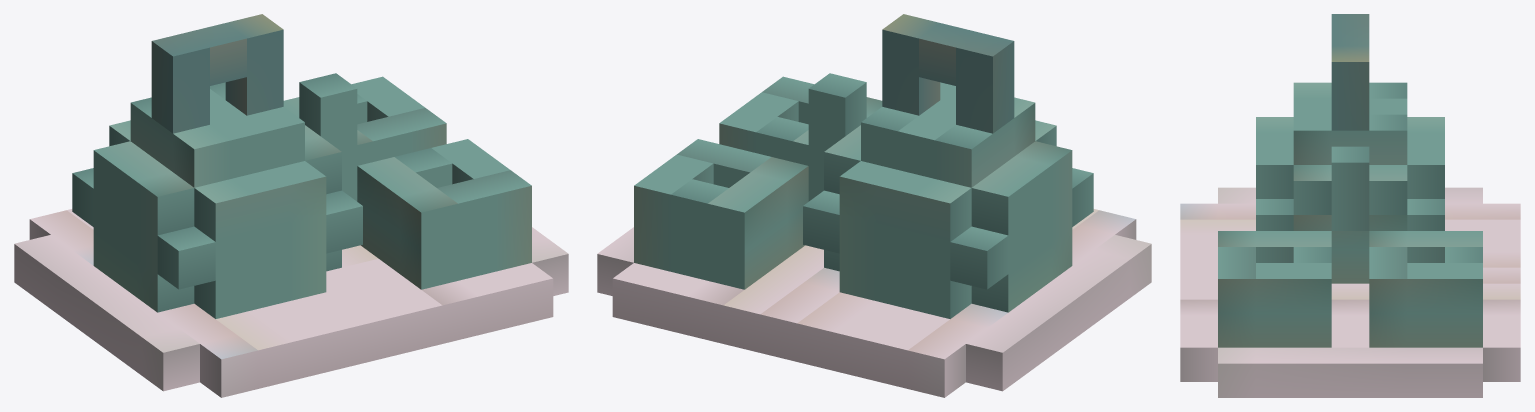
Rendered from Teaset_00.obj.
3 views of the same model, side by side, from view 1: azimuth 30°, elevation 25°; view 2: azimuth 150°, elevation 25°; view 3: azimuth 270°, elevation 25° (orthographic). The views are drawn at different scales.
Parts seen in each view (by area): view 1: Teaset_00; view 2: Teaset_00; view 3: Teaset_00.
Boxes of the visible parts, x1=… form: Teaset_00: x1=14, y1=14, x2=568, y2=397; Teaset_00: x1=597, y1=14, x2=1151, y2=397; Teaset_00: x1=1180, y1=14, x2=1520, y2=397.
Bounding box in the file's own units: 0.55 × 0.35 × 0.45.
